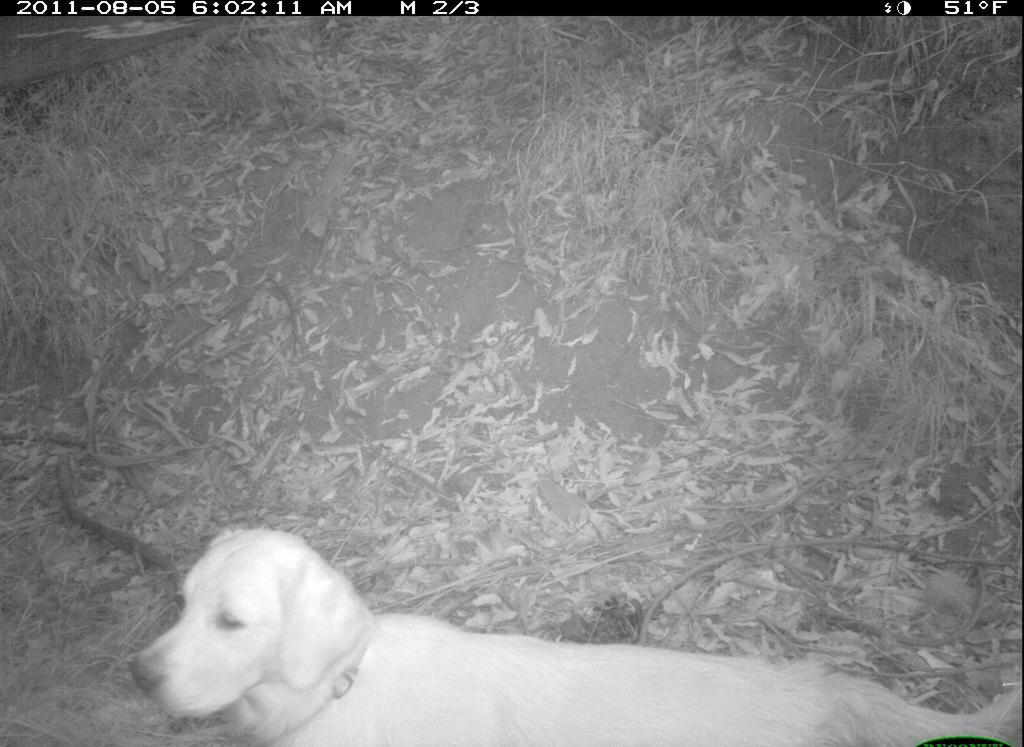dog: (131, 518, 1023, 740)
